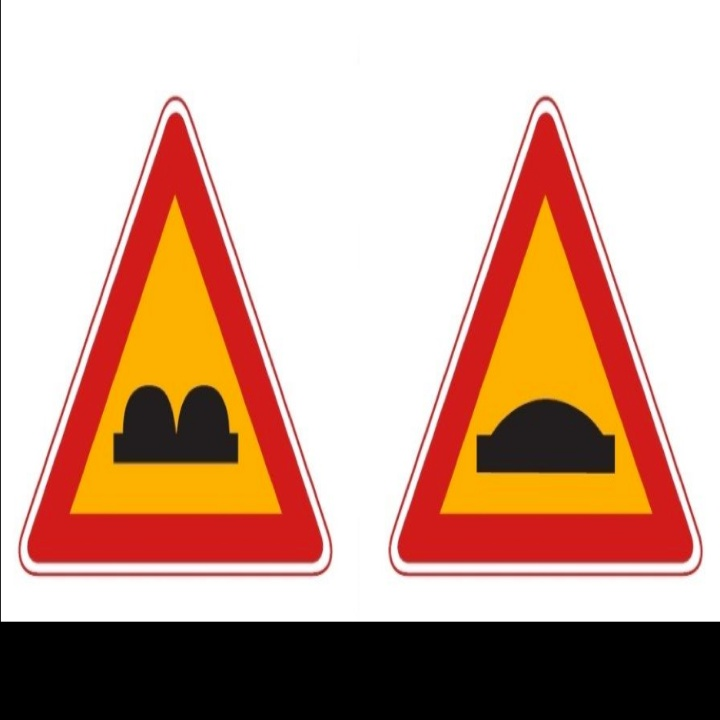bump: (471, 394, 620, 480)
